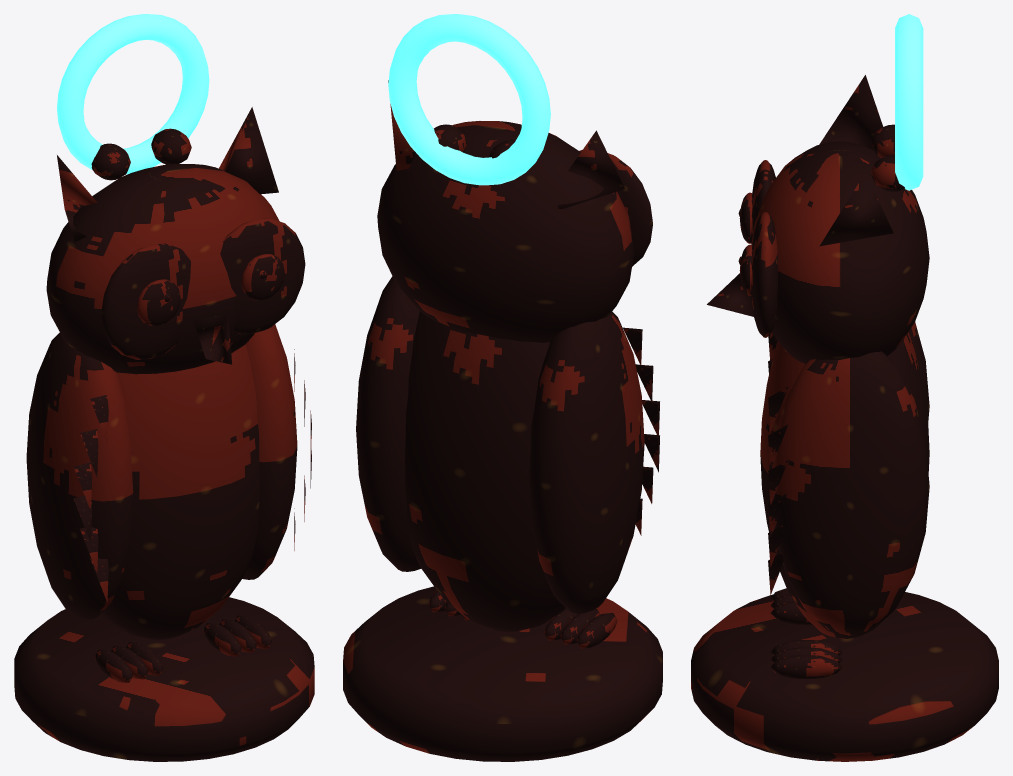
Rendered from statuette_pattern_cinnabar.fbx.
3 renders of one model, left to right at view 1: azimuth 30°, elevation 25°; view 2: azimuth 150°, elevation 25°; view 3: azimuth 270°, elevation 25°, orthographic. The views are drawn at different scales.
Visible parts, largest first — view 1: TH_S_Statuette_OwlBody, TH_S_Statuette_Plinth, TH_S_Statuette_OwlHead, TH_S_Statuette_Wing, TH_S_Statuette_Handle, TH_S_Statuette_Wing.001, TH_S_Statuette_FacialDisk, TH_S_Statuette_FacialDisk.001, TH_S_Statuette_Ear.001, TH_S_Statuette_Eye.001, TH_S_Statuette_Eye, TH_S_Statuette_Beak (+9 smaller); view 2: TH_S_Statuette_Plinth, TH_S_Statuette_OwlHead, TH_S_Statuette_OwlBody, TH_S_Statuette_Wing, TH_S_Statuette_Handle, TH_S_Statuette_Wing.001, TH_S_Statuette_FacialDisk, TH_S_Statuette_Ear, TH_S_Statuette_Talon, TH_S_Statuette_Ear.001, TH_S_Statuette_Talon.001, TH_S_Statuette_HandleMount.001 (+1 smaller); view 3: TH_S_Statuette_Plinth, TH_S_Statuette_Wing.001, TH_S_Statuette_OwlHead, TH_S_Statuette_Handle, TH_S_Statuette_OwlBody, TH_S_Statuette_FacialDisk.001, TH_S_Statuette_Ear.001, TH_S_Statuette_Ear, TH_S_Statuette_Talon.005, TH_S_Statuette_Beak, TH_S_Statuette_FacialDisk, TH_S_Statuette_HandleMount.001 (+7 smaller).
Part boxes in pixels (bbox=[...]): TH_S_Statuette_OwlBody: bbox=[101, 344, 259, 639]; TH_S_Statuette_Plinth: bbox=[14, 597, 314, 761]; TH_S_Statuette_OwlHead: bbox=[46, 164, 279, 374]; TH_S_Statuette_Wing: bbox=[26, 332, 133, 618]; TH_S_Statuette_Handle: bbox=[57, 14, 209, 174]; TH_S_Statuette_Wing.001: bbox=[242, 324, 297, 579]; TH_S_Statuette_FacialDisk: bbox=[101, 243, 190, 359]; TH_S_Statuette_FacialDisk.001: bbox=[220, 218, 305, 334]; TH_S_Statuette_Ear.001: bbox=[219, 107, 278, 194]; TH_S_Statuette_Eye.001: bbox=[241, 254, 284, 300]; TH_S_Statuette_Eye: bbox=[137, 279, 180, 326]; TH_S_Statuette_Beak: bbox=[193, 313, 232, 364]; TH_S_Statuette_Plinth: bbox=[343, 586, 662, 761]; TH_S_Statuette_OwlHead: bbox=[377, 121, 633, 342]; TH_S_Statuette_OwlBody: bbox=[405, 311, 565, 631]; TH_S_Statuette_Wing: bbox=[529, 311, 644, 613]; TH_S_Statuette_Handle: bbox=[388, 14, 550, 185]; TH_S_Statuette_Wing.001: bbox=[356, 276, 420, 571]; TH_S_Statuette_FacialDisk: bbox=[579, 150, 652, 266]; TH_S_Statuette_Ear: bbox=[558, 130, 624, 210]; TH_S_Statuette_Talon: bbox=[576, 613, 617, 648]; TH_S_Statuette_Ear.001: bbox=[388, 80, 415, 170]; TH_S_Statuette_Talon.001: bbox=[560, 609, 600, 644]; TH_S_Statuette_HandleMount.001: bbox=[434, 124, 467, 152]; TH_S_Statuette_Plinth: bbox=[691, 592, 998, 761]; TH_S_Statuette_Wing.001: bbox=[772, 351, 929, 635]; TH_S_Statuette_OwlHead: bbox=[751, 141, 929, 363]; TH_S_Statuette_Handle: bbox=[895, 14, 923, 190]; TH_S_Statuette_OwlBody: bbox=[760, 332, 929, 638]; TH_S_Statuette_FacialDisk.001: bbox=[751, 212, 777, 337]; TH_S_Statuette_Ear.001: bbox=[819, 172, 893, 246]; TH_S_Statuette_Ear: bbox=[819, 75, 883, 150]; TH_S_Statuette_Talon.005: bbox=[770, 655, 842, 678]; TH_S_Statuette_Beak: bbox=[707, 273, 753, 316]; TH_S_Statuette_FacialDisk: bbox=[751, 160, 775, 244]; TH_S_Statuette_HandleMount.001: bbox=[870, 155, 904, 191].
Bounding box in the file's own units: 0.12 × 0.2925 × 0.12.
2 materials, 1 textured.
